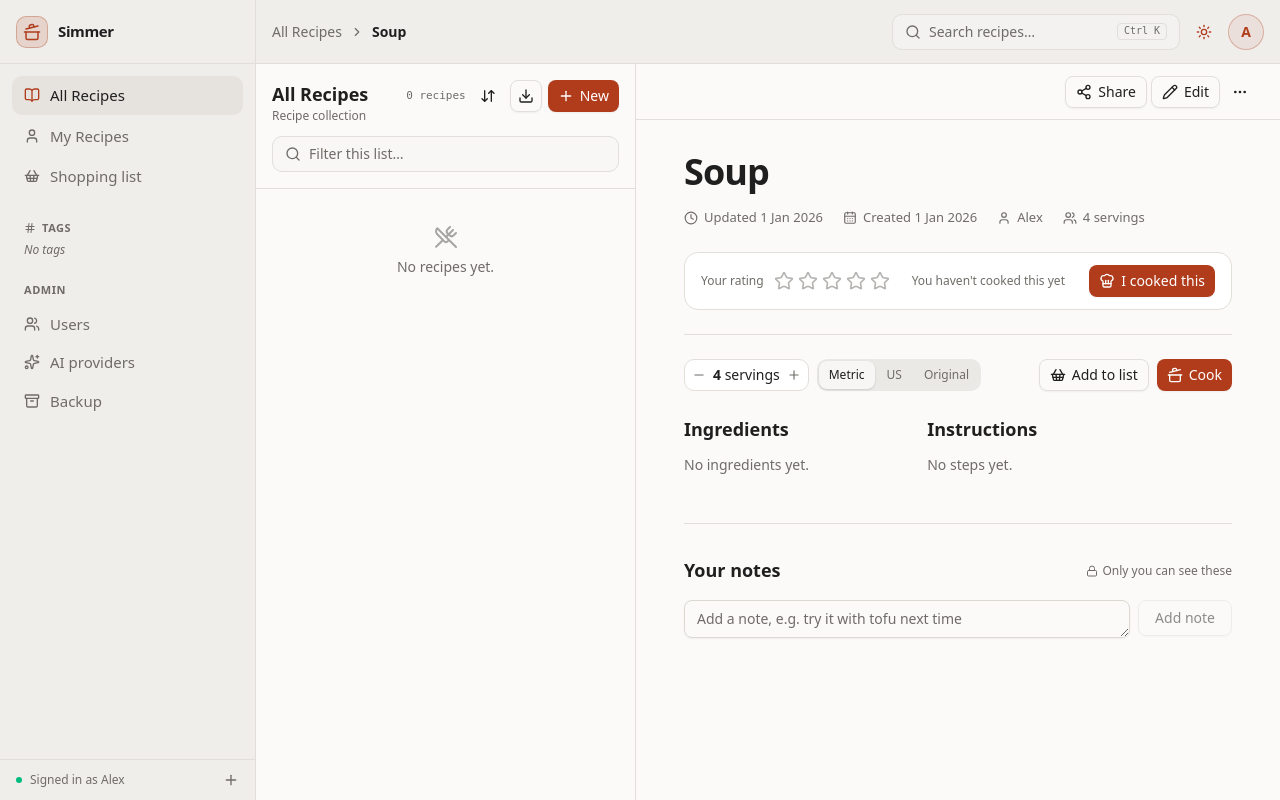
Test: failed actions › show the server's message as a toast
The image size is (1280, 800).
Click the radio button named "4 stars".
click(856, 280)  # box [844,268,868,292]
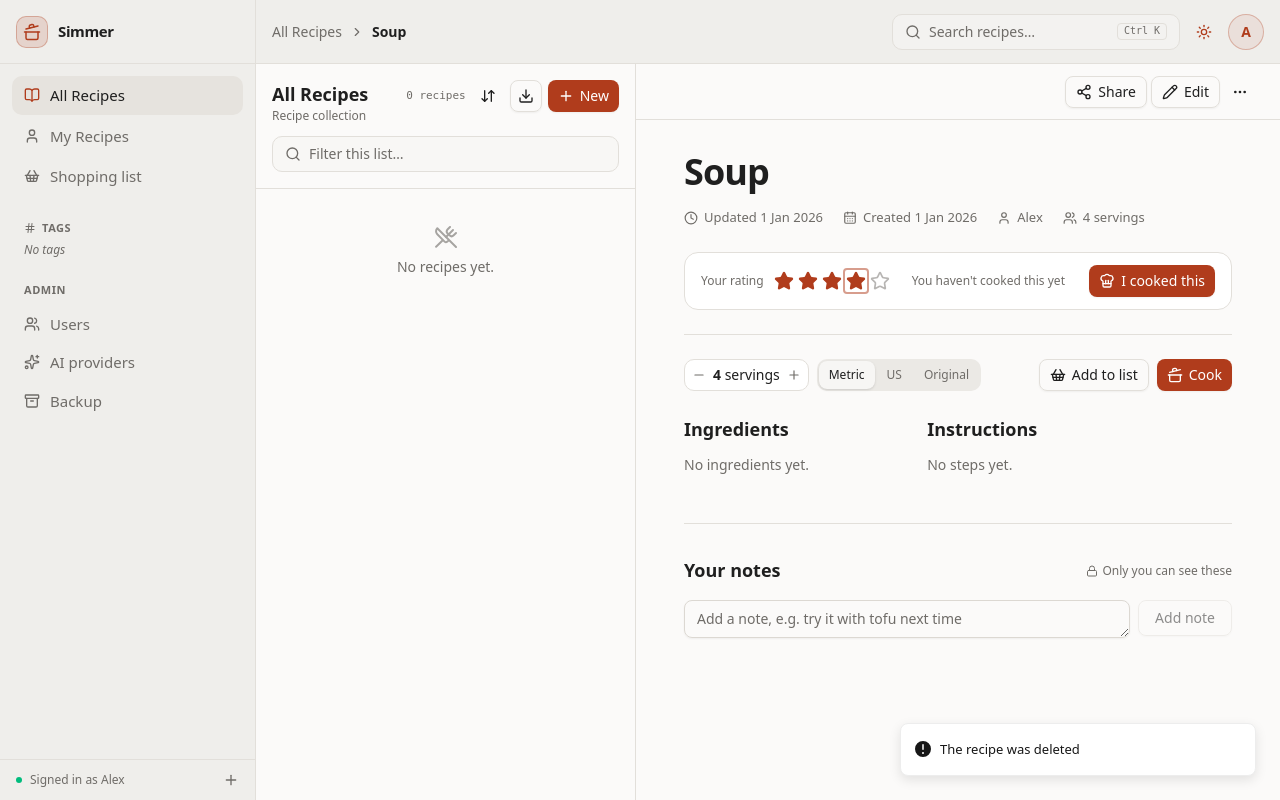
Result: the text "The recipe was deleted" is shown at [940,740,1080,759]
